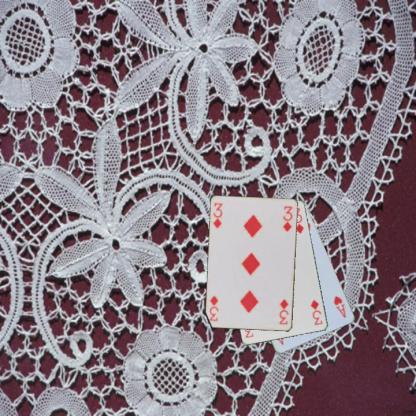3d: (308, 298, 324, 326), (277, 297, 290, 326), (211, 200, 223, 230)
Ah: (331, 293, 347, 319)
